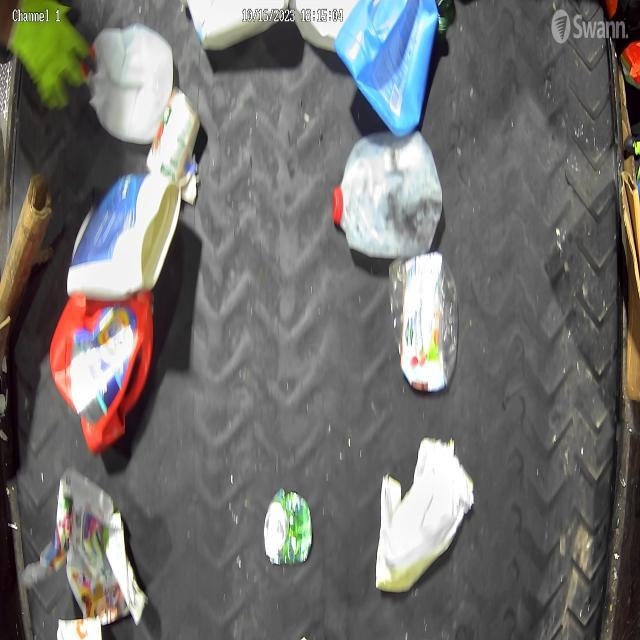can: (146, 86, 202, 174), (263, 490, 313, 566)
milk_jug: (332, 133, 442, 260), (85, 26, 174, 144), (180, 0, 288, 51)
non_white_jug: (49, 296, 154, 454), (334, 0, 440, 137), (66, 176, 181, 296)
